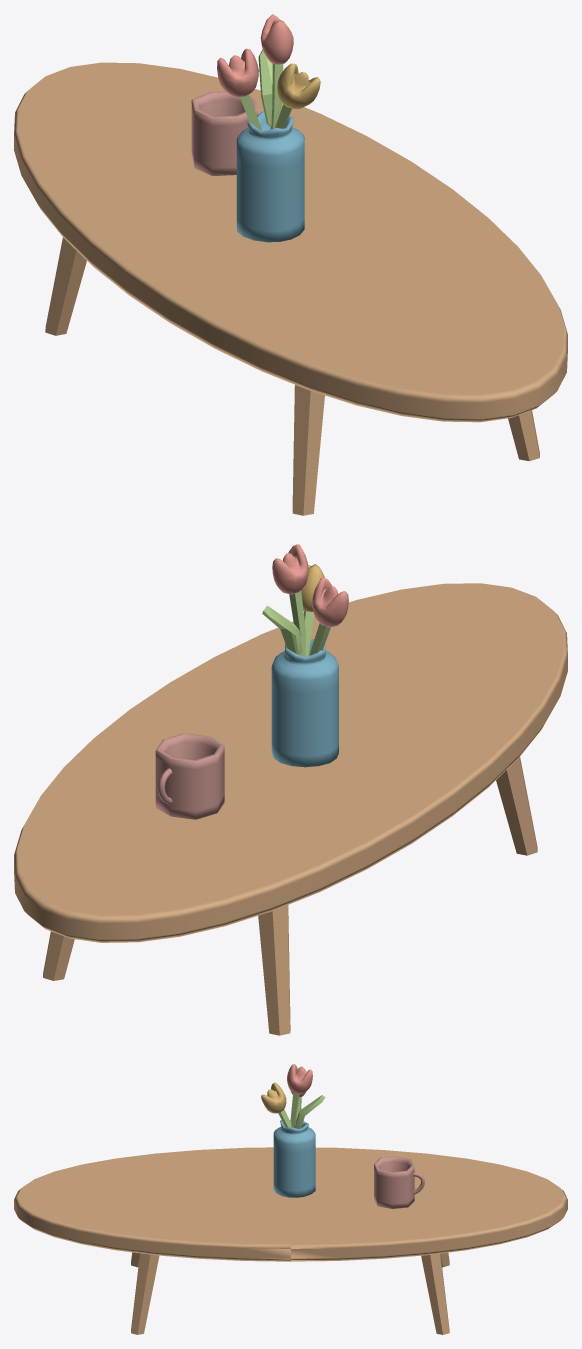
Rendered from accent-table-transformed.glb.
3 views of the same model, one above another, from view 1: azimuth 30°, elevation 25°; view 2: azimuth 150°, elevation 25°; view 3: azimuth 270°, elevation 25° (orthographic). The views are drawn at different scales.
Visible parts, largest first — view 1: Cylinder.005, Cube 2.005, Merged Geometry.015, Merged Geometry.014, Merged Geometry.013, Cube 5.005, Cube 4.004, Cube 3.002; view 2: Cylinder.005, Cube 2.005, Merged Geometry.015, Merged Geometry.014, Merged Geometry.013, Cube 5.005, Cube 3.002; view 3: Cylinder.005, Merged Geometry.015, Cube 2.005, Merged Geometry.014, Merged Geometry.013, Cube 3.002, Cube 4.004.
Boxes of the visible parts, <box> form: Cylinder.005: <box>14,62,567,422</box>; Cube 2.005: <box>236,111,304,242</box>; Merged Geometry.015: <box>45,237,539,515</box>; Merged Geometry.014: <box>191,91,257,175</box>; Merged Geometry.013: <box>240,49,291,130</box>; Cube 5.005: <box>217,48,258,97</box>; Cube 4.004: <box>277,63,320,108</box>; Cube 3.002: <box>260,14,293,64</box>; Cylinder.005: <box>14,583,567,942</box>; Cube 2.005: <box>271,639,338,767</box>; Merged Geometry.015: <box>43,757,537,1035</box>; Merged Geometry.014: <box>155,733,224,819</box>; Merged Geometry.013: <box>262,590,330,656</box>; Cube 5.005: <box>312,577,348,627</box>; Cube 3.002: <box>272,544,308,594</box>; Cylinder.005: <box>14,1147,567,1261</box>; Merged Geometry.015: <box>131,1252,449,1334</box>; Cube 2.005: <box>273,1119,315,1197</box>; Merged Geometry.014: <box>374,1156,424,1208</box>; Merged Geometry.013: <box>278,1092,325,1128</box>; Cube 3.002: <box>287,1064,312,1093</box>; Cube 4.004: <box>261,1082,286,1113</box>.
Size of the model in its own units: 1.13 by 1.24 by 2.68.
